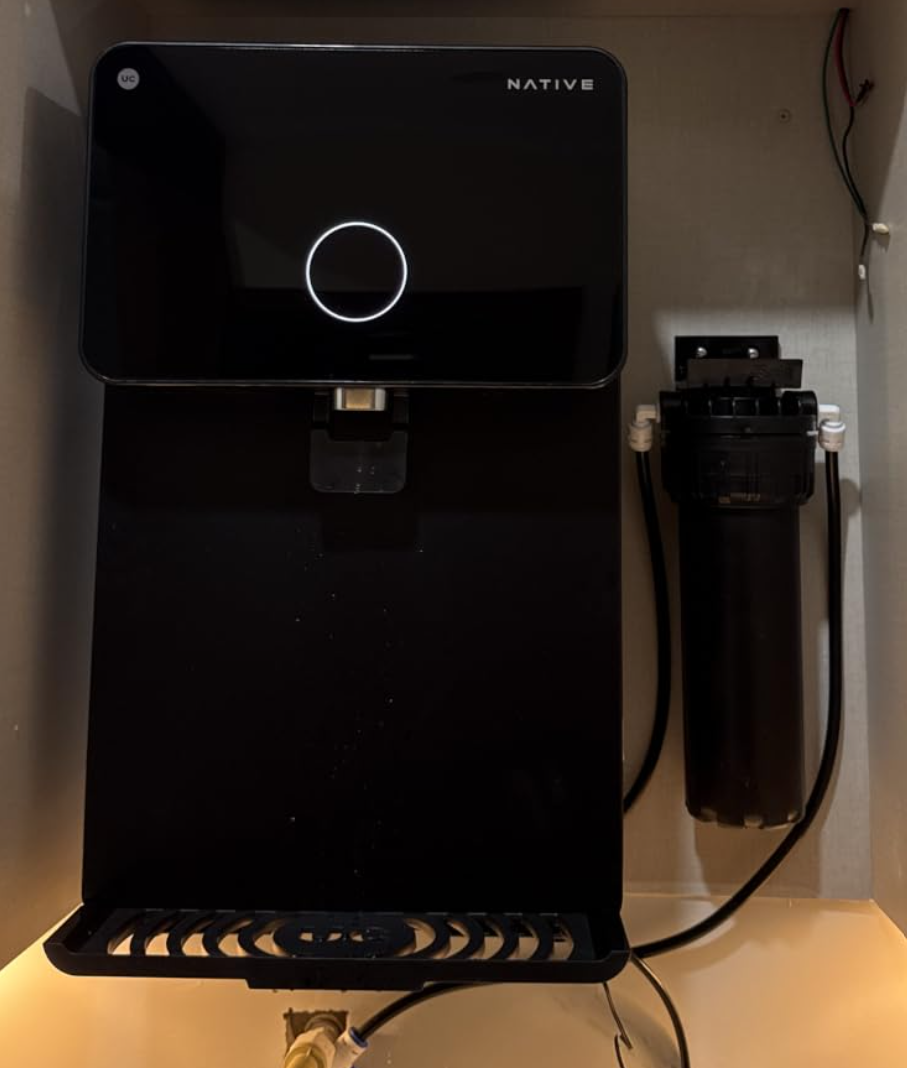water purifier: (67, 25, 666, 994)
